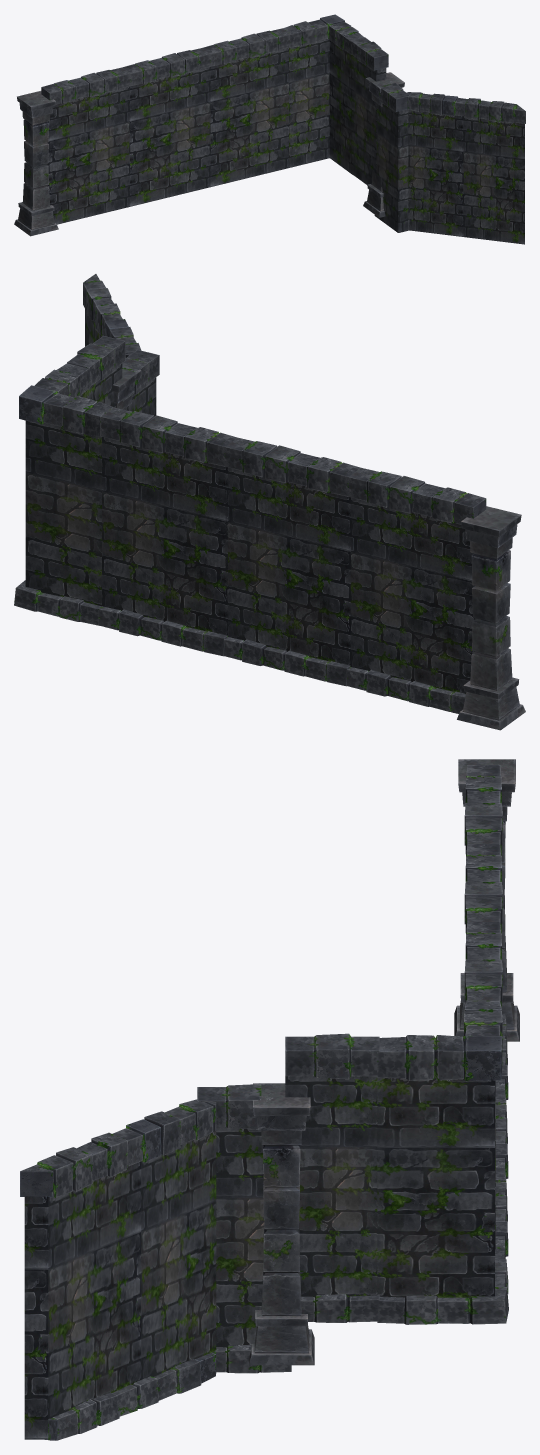
Rendered from ExteriorDecorationP2.gltf.
3 renders of one model, top to bottom at view 1: azimuth 30°, elevation 25°; view 2: azimuth 150°, elevation 25°; view 3: azimuth 270°, elevation 25°, orthographic. The views are drawn at different scales.
Visible parts, largest first — view 1: P_MOD_Wall_01_E_straight_large (×3), P_MOD_Wall_01_E_angle_large_1, P_MOD_Wall_01_E_corner_convex_large_2, P_MOD_Wall_01_E_straight_large_half_R (×2), P_MOD_WallCover_01_E_straight (2) (×3), P_MOD_Column_01_large, P_MOD_WallCover_01_E_angle_1 (2), P_MOD_WallCover_01_E_corner_convex_2, P_MOD_WallCover_01_E_straight_half_R (2) (×2), P_MOD_Column_01_base (×2), P_MOD_Column_01_capital (×2); view 2: P_MOD_Wall_01_E_straight_large (×3), P_MOD_WallCover_01_E_straight (2) (×3), P_MOD_Wall_01_E_corner_convex_large_2, P_MOD_WallTrim_01_E_straight (2) (×3), P_MOD_Column_01_large, P_MOD_WallCover_01_E_corner_convex_2, P_MOD_WallCover_01_E_straight_half_R (2) (×2), P_MOD_Column_01_base, P_MOD_Column_01_capital (×2), P_MOD_WallCover_01_E_angle_1 (2), P_MOD_WallTrim_01_E_corner_convex_2, P_MOD_Wall_01_E_straight_large_half_R (×2); view 3: P_MOD_Wall_01_E_angle_large_1, P_MOD_Wall_01_E_straight_large_half_R (×2), P_MOD_Wall_01_E_corner_convex_large_2, P_MOD_WallCover_01_E_straight (2) (×3), P_MOD_WallCover_01_E_angle_1 (2), P_MOD_Column_01_large (×2), P_MOD_WallCover_01_E_corner_convex_2, P_MOD_WallCover_01_E_straight_half_R (2) (×2), P_MOD_WallTrim_01_E_angle_1 (2), P_MOD_Column_01_base (×2), P_MOD_WallTrim_01_E_corner_convex_2, P_MOD_WallTrim_01_E_straight_half_R (2) (×2) (+2 smaller).
Boxes of the visible parts, bbox=[...] form: P_MOD_Wall_01_E_straight_large (×3): bbox=[47, 47, 288, 224]; P_MOD_Wall_01_E_angle_large_1: bbox=[408, 110, 524, 244]; P_MOD_Wall_01_E_corner_convex_large_2: bbox=[289, 39, 352, 174]; P_MOD_Wall_01_E_straight_large_half_R (×2): bbox=[352, 55, 408, 232]; P_MOD_WallCover_01_E_straight (2) (×3): bbox=[41, 28, 291, 104]; P_MOD_Column_01_large: bbox=[22, 111, 50, 210]; P_MOD_WallCover_01_E_angle_1 (2): bbox=[406, 92, 525, 123]; P_MOD_WallCover_01_E_corner_convex_2: bbox=[283, 14, 363, 54]; P_MOD_WallCover_01_E_straight_half_R (2) (×2): bbox=[351, 37, 410, 111]; P_MOD_Column_01_base (×2): bbox=[14, 184, 385, 236]; P_MOD_Column_01_capital (×2): bbox=[17, 72, 404, 118]; P_MOD_Wall_01_E_straight_large (×3): bbox=[102, 437, 475, 693]; P_MOD_WallCover_01_E_straight (2) (×3): bbox=[100, 407, 486, 524]; P_MOD_Wall_01_E_corner_convex_large_2: bbox=[25, 391, 101, 606]; P_MOD_WallTrim_01_E_straight (2) (×3): bbox=[98, 606, 465, 713]; P_MOD_Column_01_large: bbox=[470, 538, 512, 690]; P_MOD_WallCover_01_E_corner_convex_2: bbox=[19, 363, 112, 436]; P_MOD_WallCover_01_E_straight_half_R (2) (×2): bbox=[67, 335, 159, 401]; P_MOD_Column_01_base: bbox=[457, 677, 525, 730]; P_MOD_Column_01_capital (×2): bbox=[112, 369, 521, 547]; P_MOD_WallCover_01_E_angle_1 (2): bbox=[83, 274, 141, 357]; P_MOD_WallTrim_01_E_corner_convex_2: bbox=[14, 580, 101, 625]; P_MOD_Wall_01_E_straight_large_half_R (×2): bbox=[86, 363, 156, 416]; P_MOD_Wall_01_E_angle_large_1: bbox=[24, 1130, 216, 1439]; P_MOD_Wall_01_E_straight_large_half_R (×2): bbox=[216, 1076, 377, 1347]; P_MOD_Wall_01_E_corner_convex_large_2: bbox=[377, 1077, 494, 1299]; P_MOD_WallCover_01_E_straight (2) (×3): bbox=[464, 765, 502, 1007]; P_MOD_WallCover_01_E_angle_1 (2): bbox=[20, 1099, 216, 1197]; P_MOD_Column_01_large (×2): bbox=[261, 806, 507, 1315]; P_MOD_WallCover_01_E_corner_convex_2: bbox=[377, 1000, 502, 1081]; P_MOD_WallCover_01_E_straight_half_R (2) (×2): bbox=[197, 1033, 379, 1129]; P_MOD_WallTrim_01_E_angle_1 (2): bbox=[48, 1351, 216, 1440]; P_MOD_Column_01_base (×2): bbox=[249, 973, 519, 1365]; P_MOD_WallTrim_01_E_corner_convex_2: bbox=[377, 1249, 508, 1324]; P_MOD_WallTrim_01_E_straight_half_R (2) (×2): bbox=[215, 1294, 379, 1373].
Bounding box in the file's own units: 18.99 × 7.55 × 10.61.
2 materials, 2 textured.
